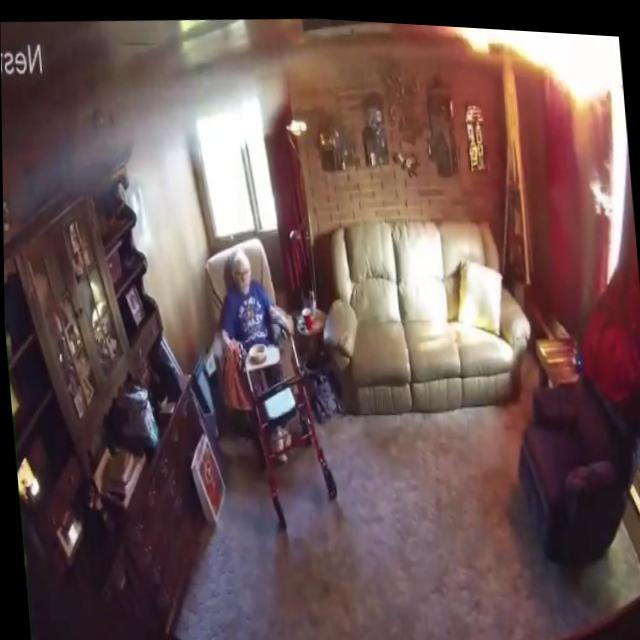fire: (455, 21, 623, 107)
